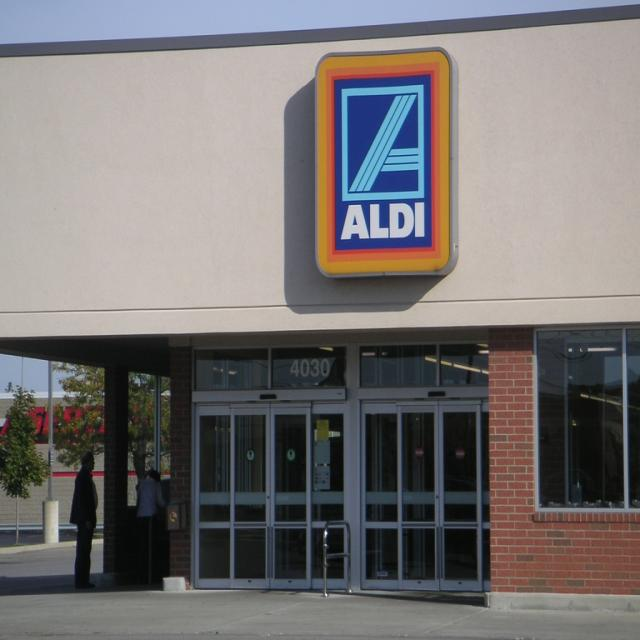aldi: (320, 54, 451, 275)
